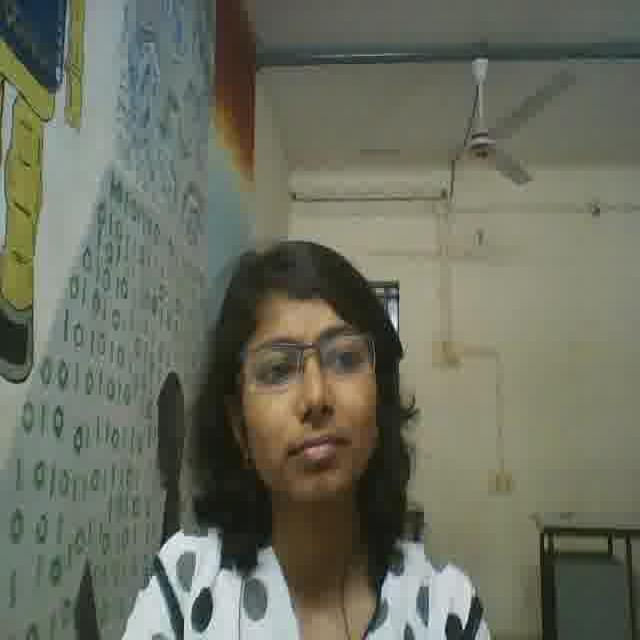Boredom: (242, 289, 376, 507)
